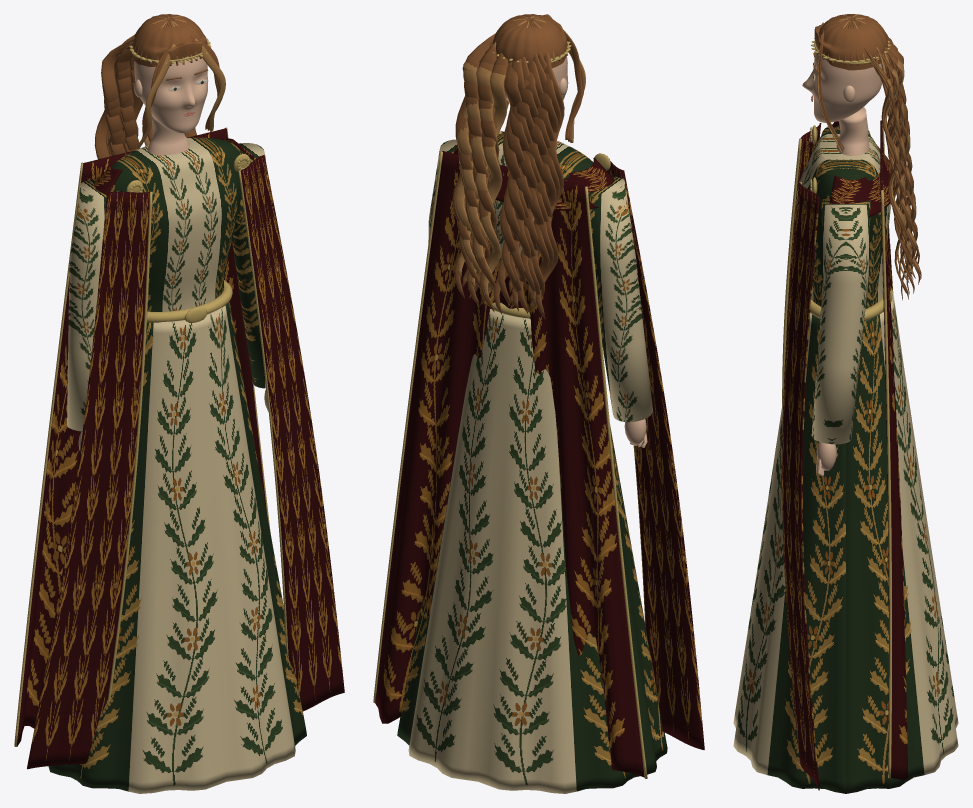
File: princess-v11-standing.glb
The picture shows the model from 3 angles, left to right: view 1: azimuth 30°, elevation 25°; view 2: azimuth 150°, elevation 25°; view 3: azimuth 270°, elevation 25°; orthographic projection.
Parts seen in each view (by area): view 1: cape_surface, MorrisPrincess_surface, body_surface, head_surface, armL_surface, armR_surface; view 2: cape_surface, MorrisPrincess_surface, head_surface, armL_surface, body_surface; view 3: MorrisPrincess_surface, cape_surface, head_surface, armR_surface, body_surface.
Boxes of the visible parts, box(x1,y1,x2,y2) form: cape_surface: box(14, 127, 344, 769); MorrisPrincess_surface: box(48, 301, 306, 793); body_surface: box(110, 114, 250, 322); head_surface: box(94, 14, 225, 159); armL_surface: box(67, 179, 106, 451); armR_surface: box(232, 143, 268, 411); cape_surface: box(373, 131, 704, 778); MorrisPrincess_surface: box(397, 309, 667, 793); head_surface: box(452, 14, 585, 319); armL_surface: box(588, 176, 652, 447); body_surface: box(492, 130, 610, 318); MorrisPrincess_surface: box(733, 290, 958, 793); cape_surface: box(782, 120, 908, 790); head_surface: box(802, 14, 921, 300); armR_surface: box(811, 198, 870, 476); body_surface: box(796, 107, 892, 321).
Bounding box in the file's own units: 0.7501 × 1.66 × 0.4649.
10 materials, 2 textured.
